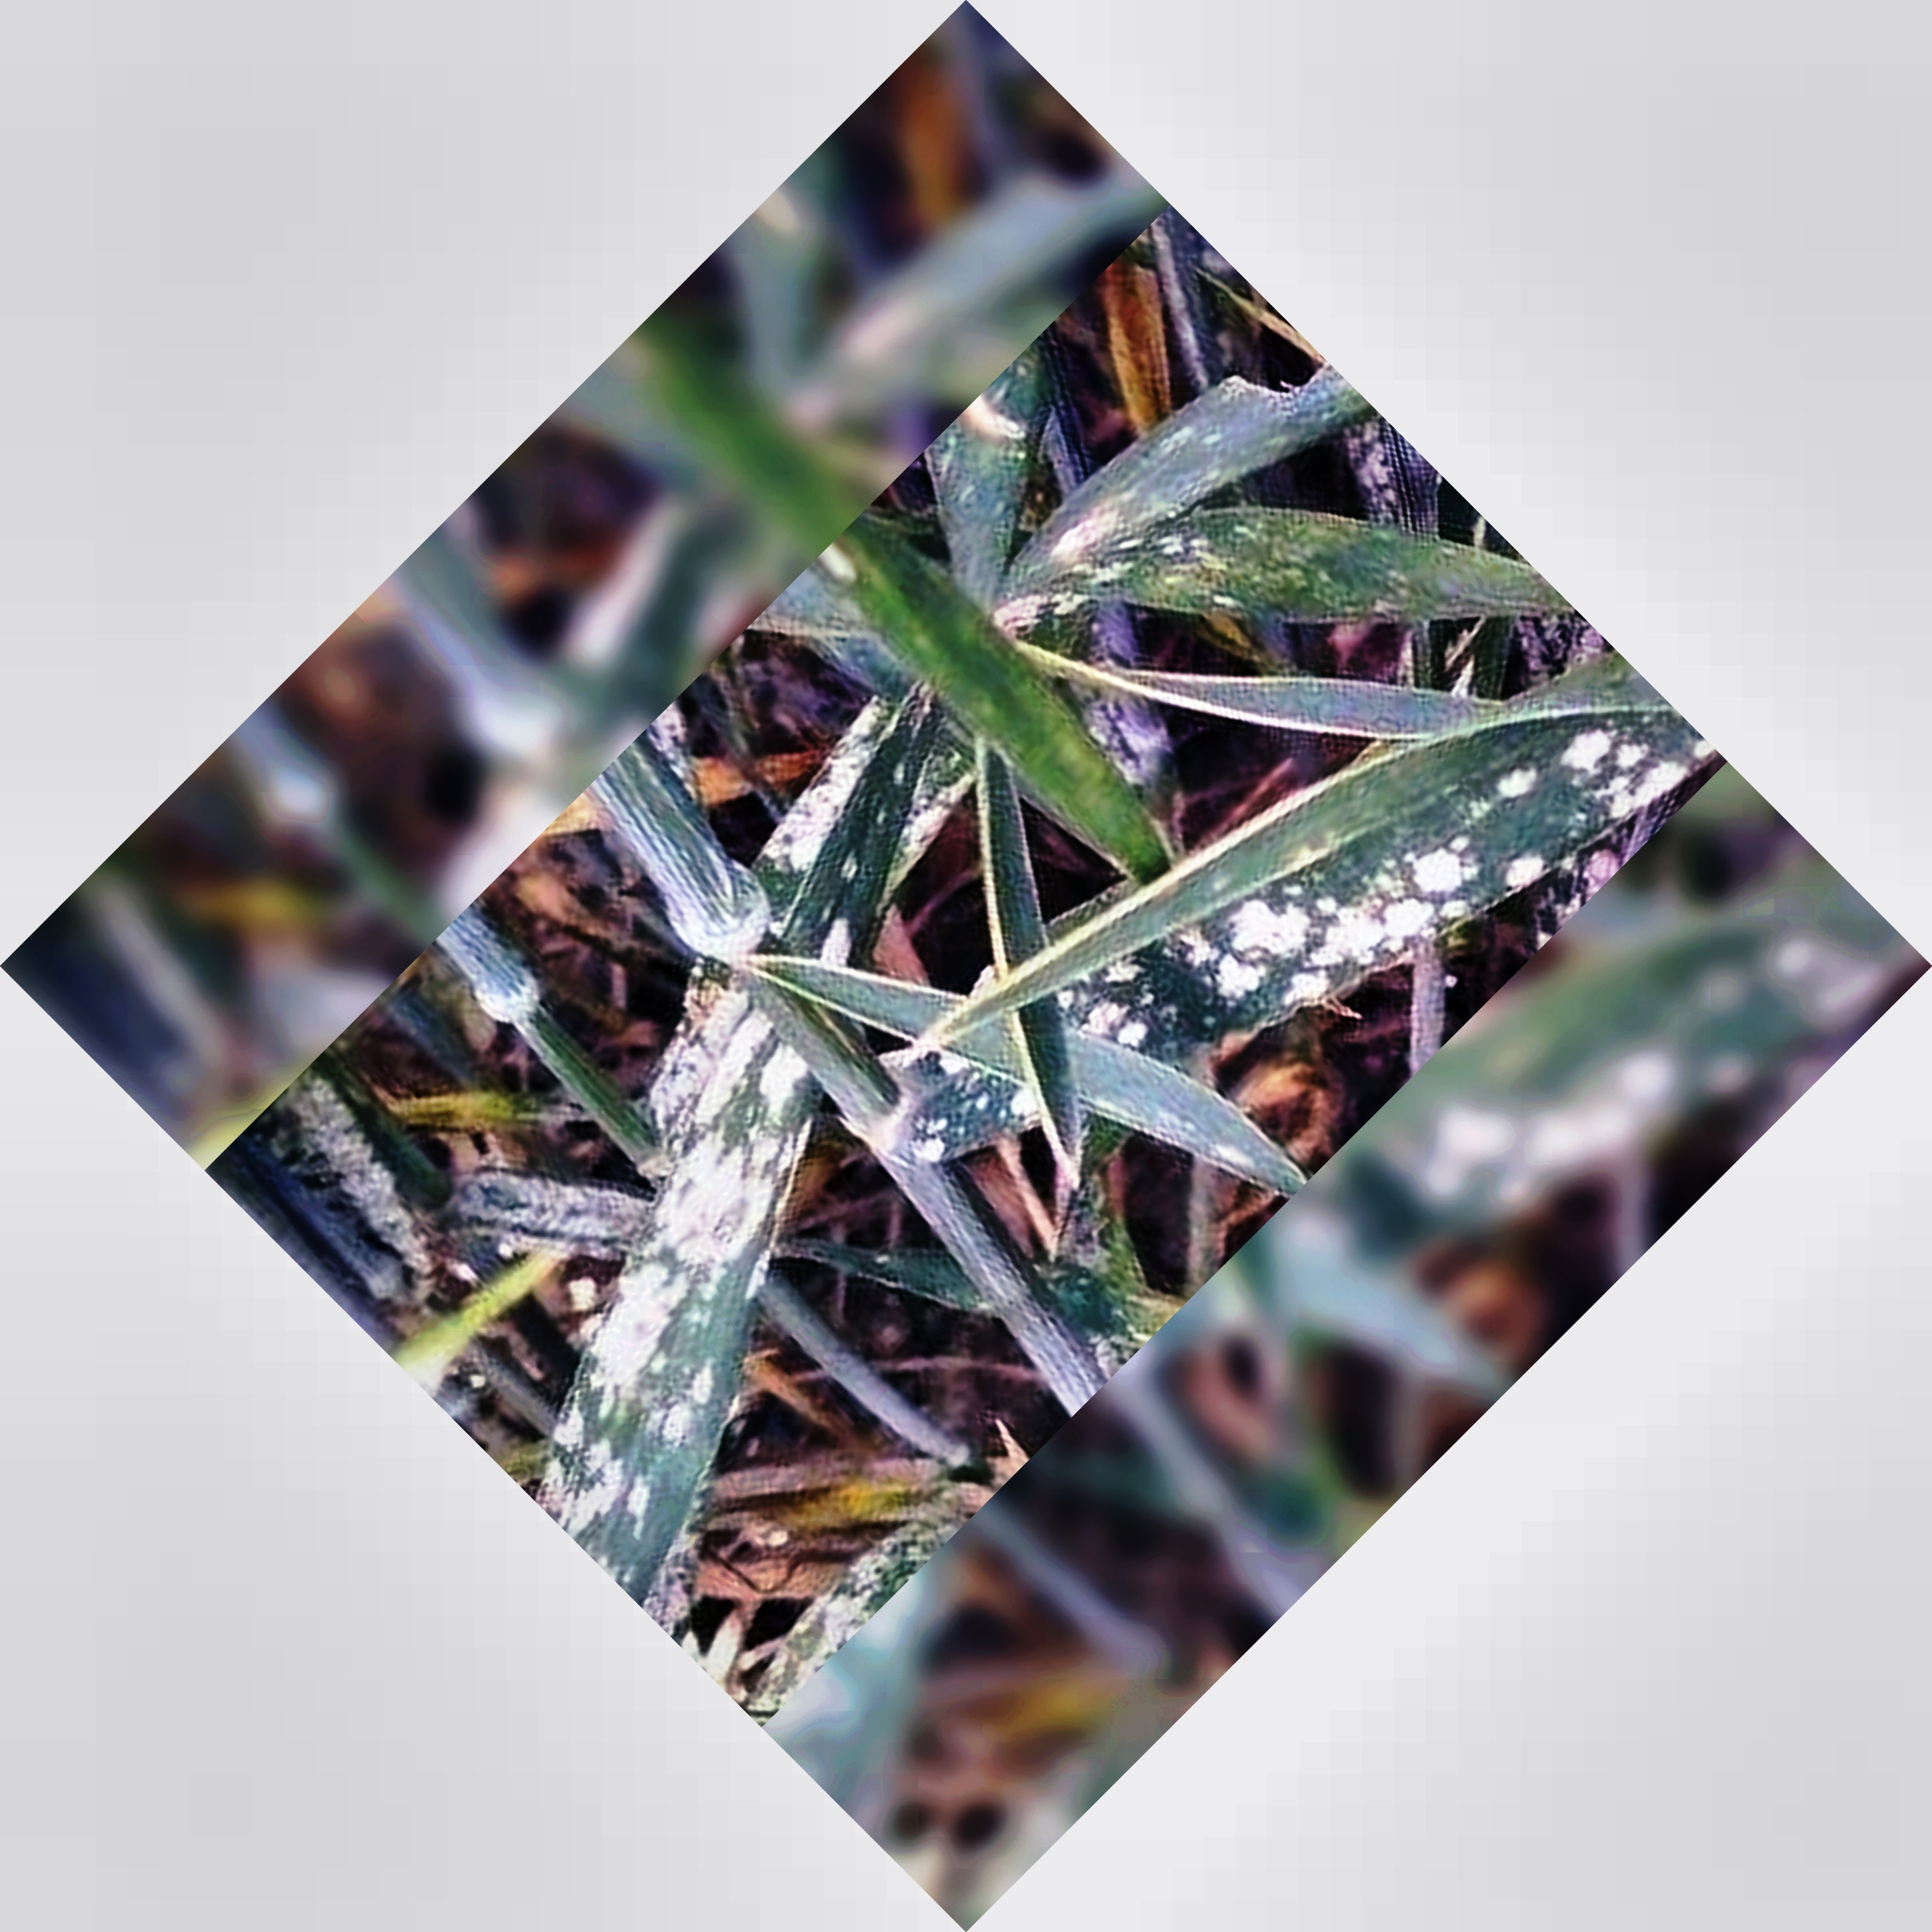Powdery Mildew: (1106, 706, 1688, 1054), (557, 1028, 853, 1539)
